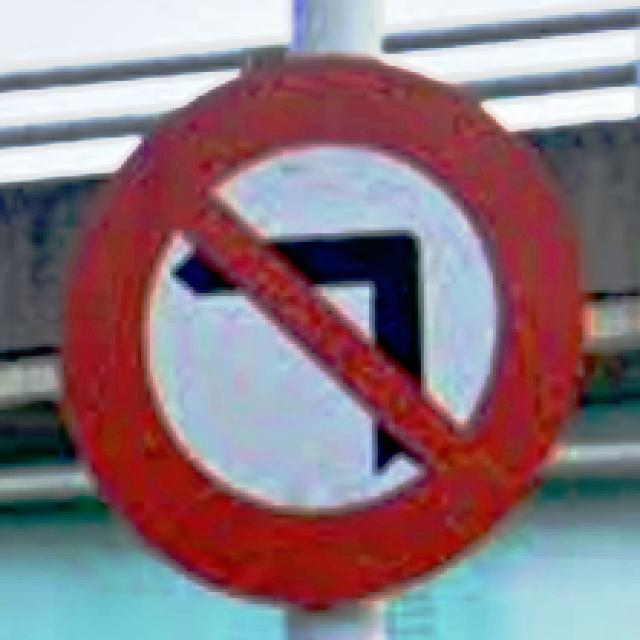noturnleft: (61, 54, 588, 610)
